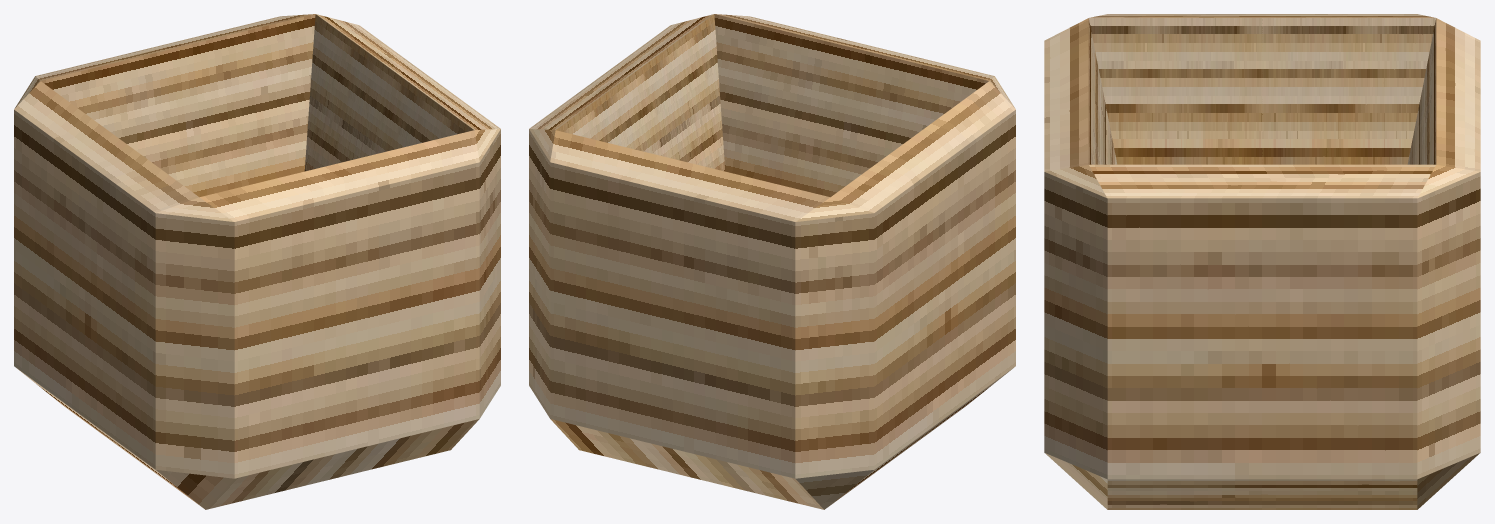
File: cloth_container.glb
3 views of the same model, side by side, from view 1: azimuth 30°, elevation 25°; view 2: azimuth 150°, elevation 25°; view 3: azimuth 270°, elevation 25° (orthographic). The views are drawn at different scales.
Parts seen in each view (by area): view 1: cloth_container; view 2: cloth_container; view 3: cloth_container.
Boxes of the visible parts, box(x1,y1,x2,y2) form: cloth_container: box(14, 14, 500, 509); cloth_container: box(529, 14, 1015, 509); cloth_container: box(1044, 14, 1480, 509).
Bounding box in the file's own units: 2 × 1.79 × 2.
1 material, 1 textured.
